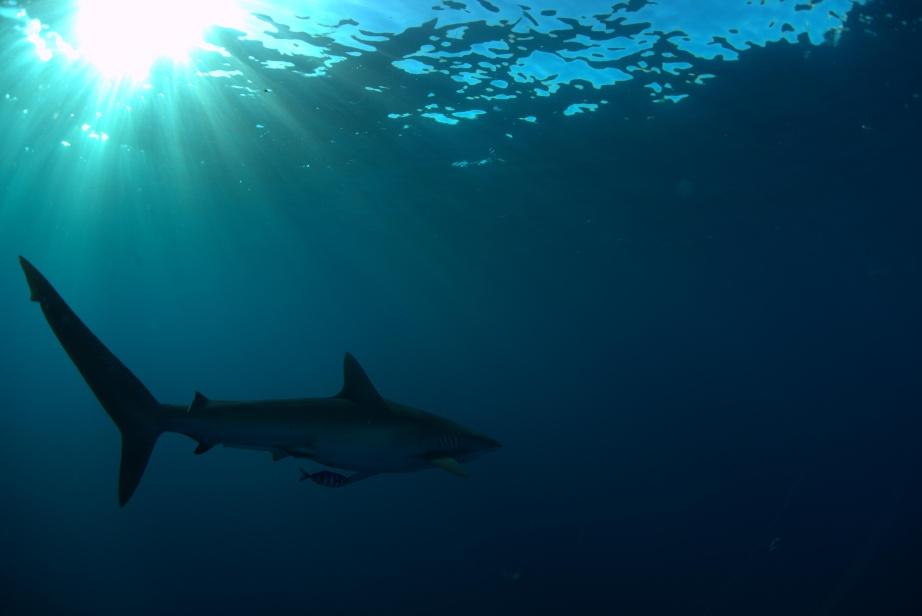Sedoso: (4, 248, 519, 523)
